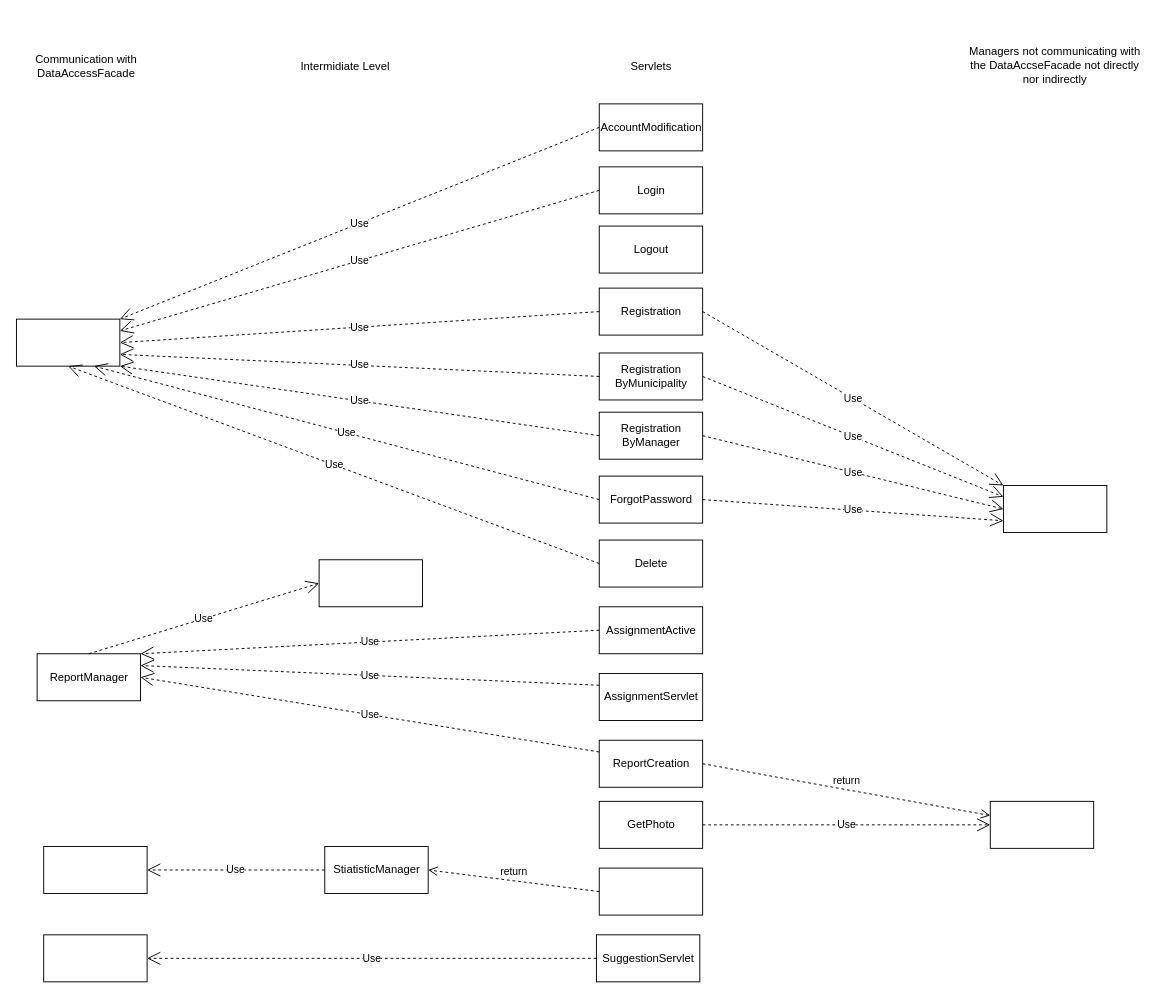
Some shapes in this 1164 by 998 pixel diagram are drawn without their labels. Here are the shapes that lost their labels. From the top down, the centre of each, then its label:
point 68,342: UserManager
point 1055,509: MailManager
point 370,583: NotificationManager
point 1041,824: PhotoManager
point 95,869: StatisticBuilder
point 650,891: StatisticsServlet
point 95,958: SuggestionManager
